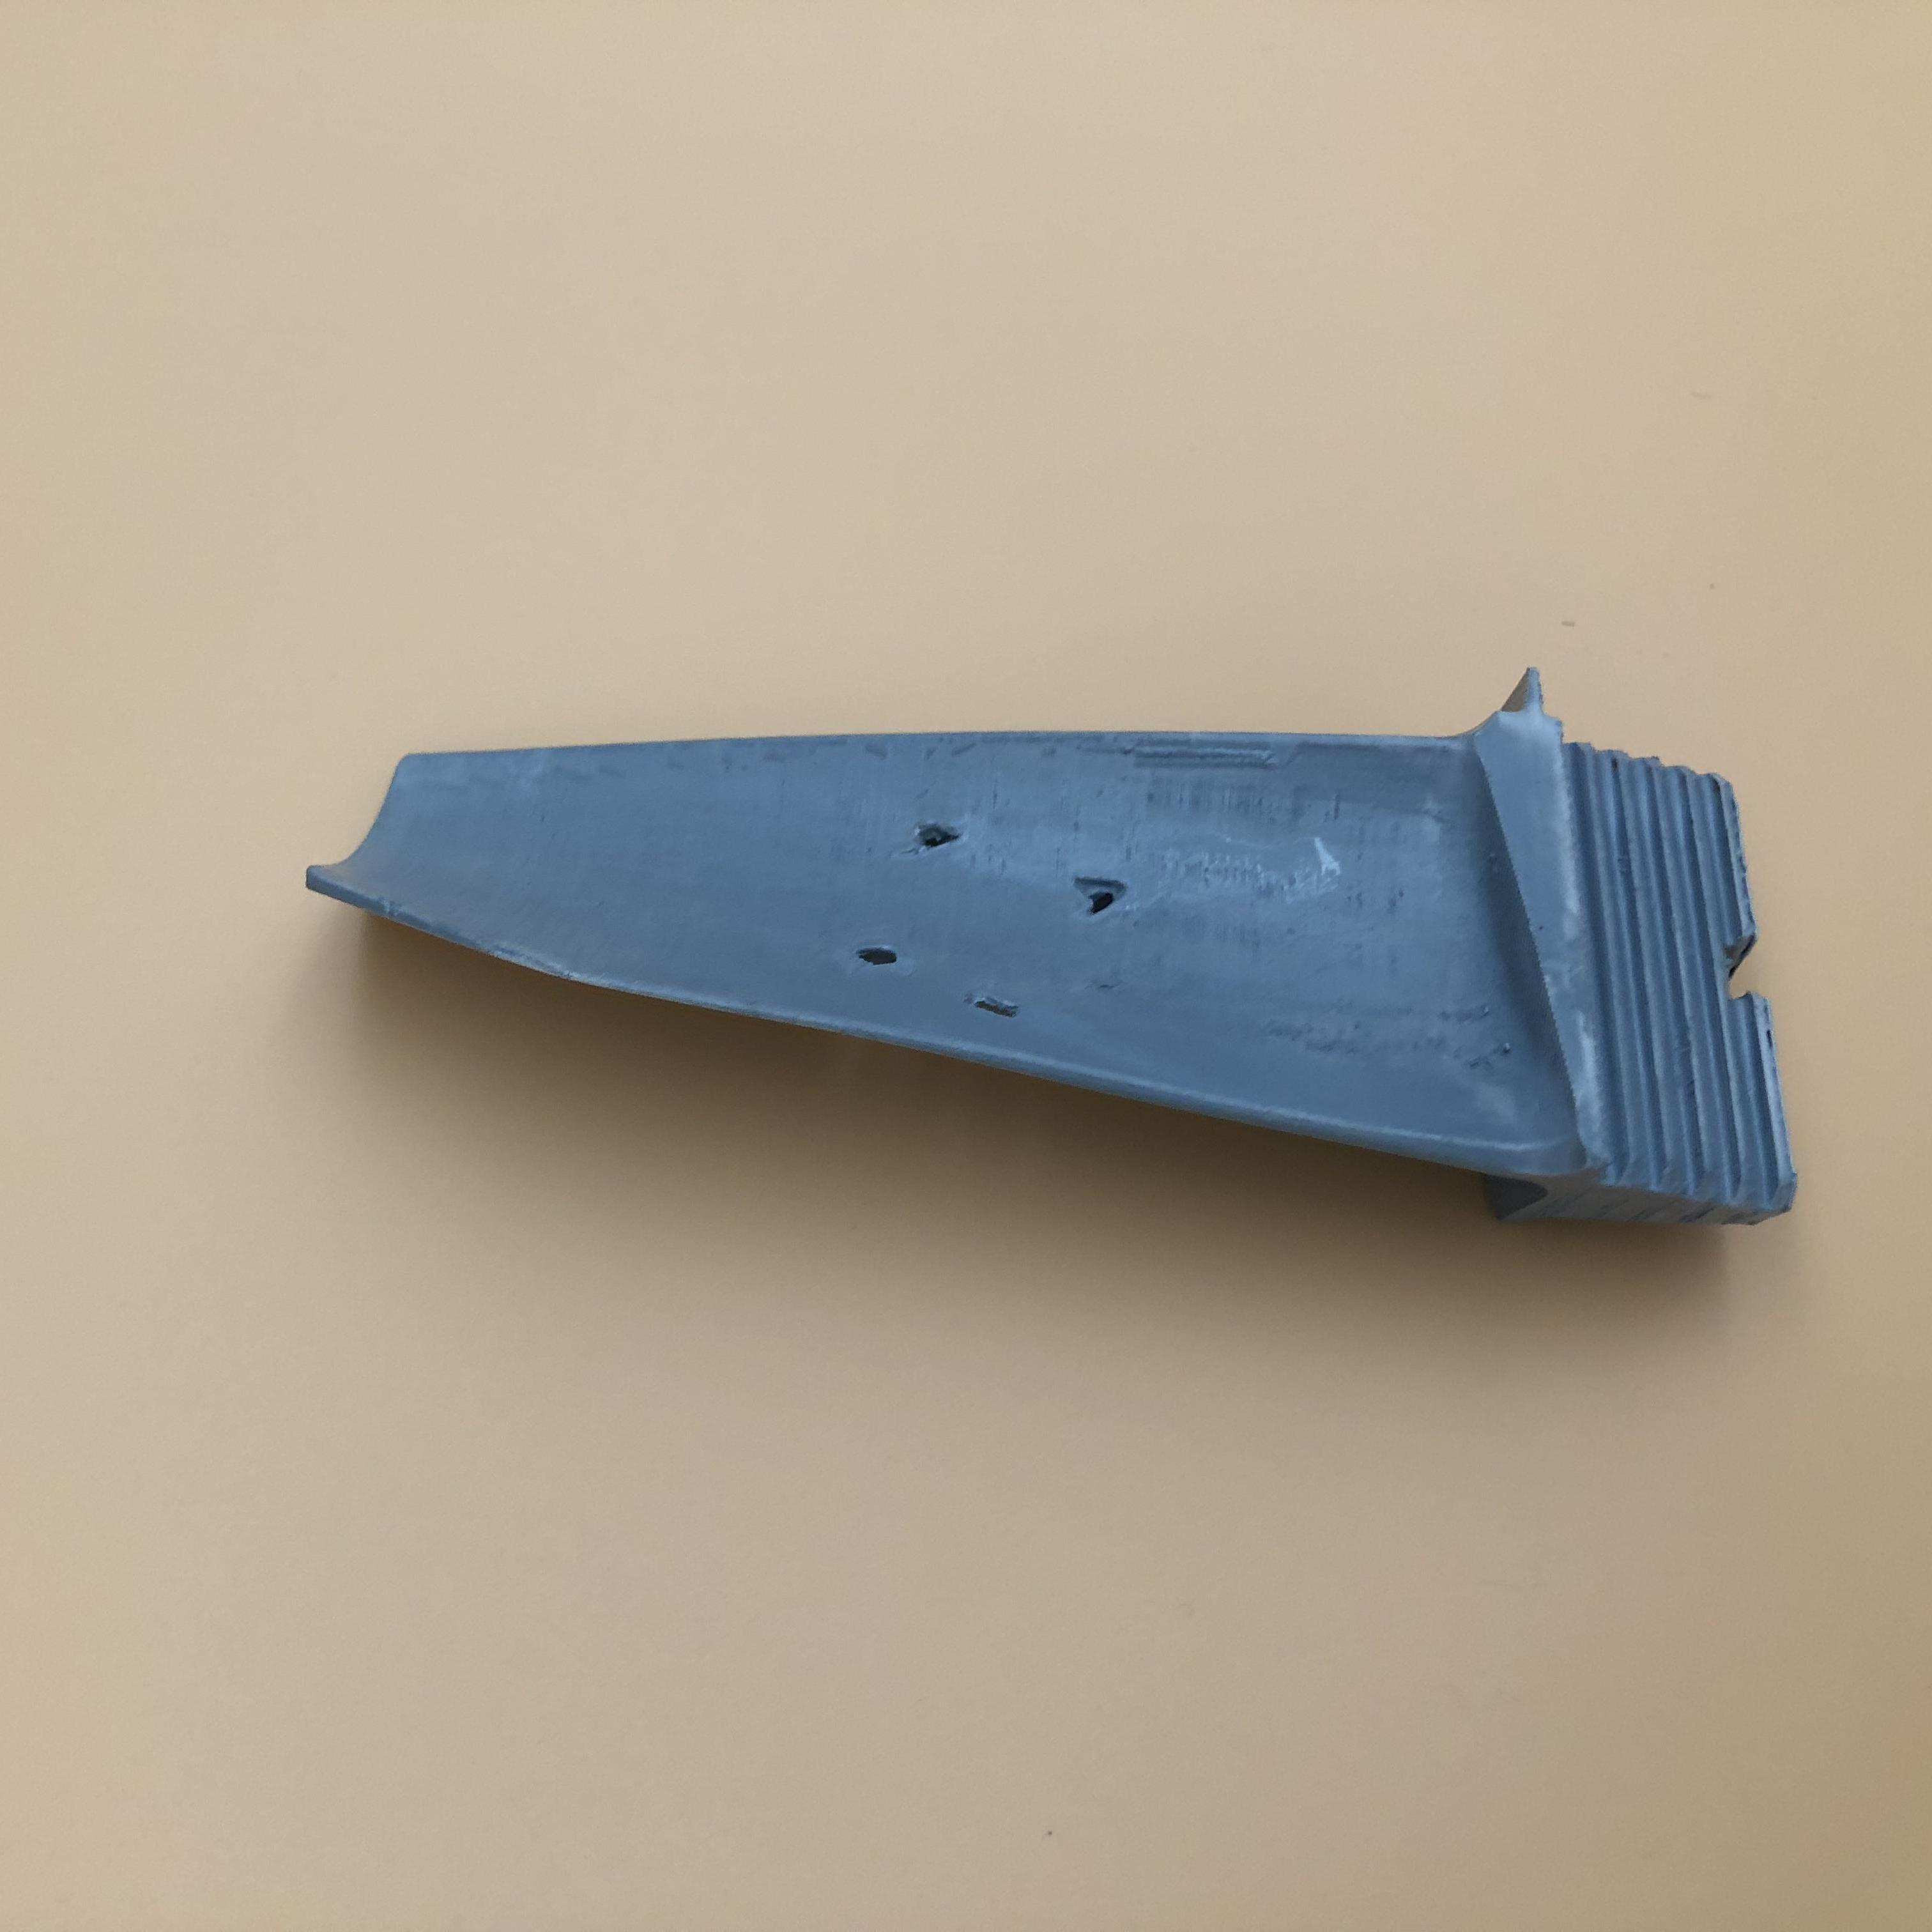breakdown: (858, 821, 1122, 1028)
